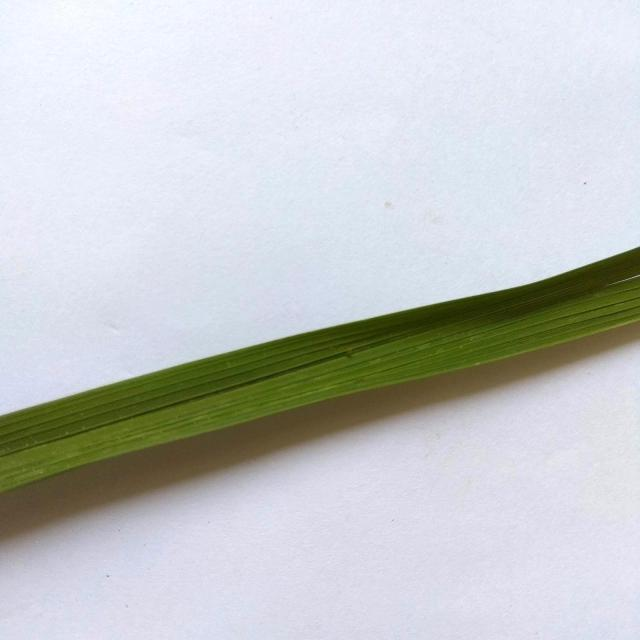healthy: (0, 213, 640, 535)
